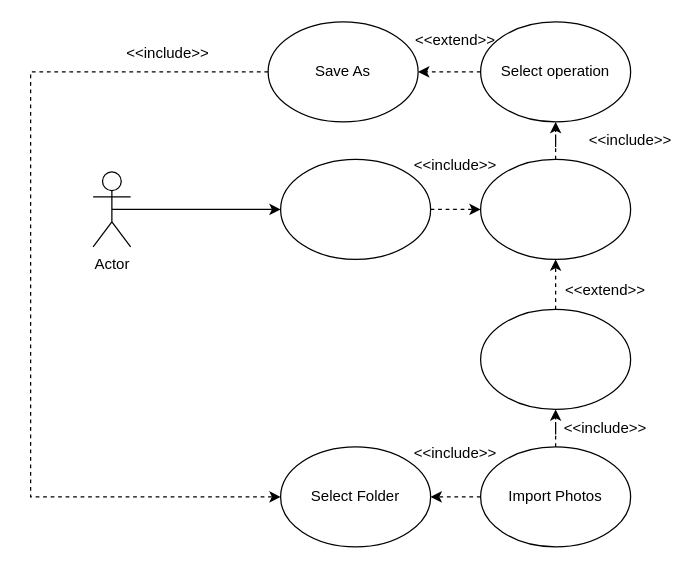
The diagram is 694 pixels wide and 569 high, and some of its shapes have lost their labels. Each missing label, with the box of its shape:
Browse Gallery: (479, 308, 631, 409)
Edit Photo: (279, 158, 431, 259)
Select Photo: (479, 158, 631, 259)
